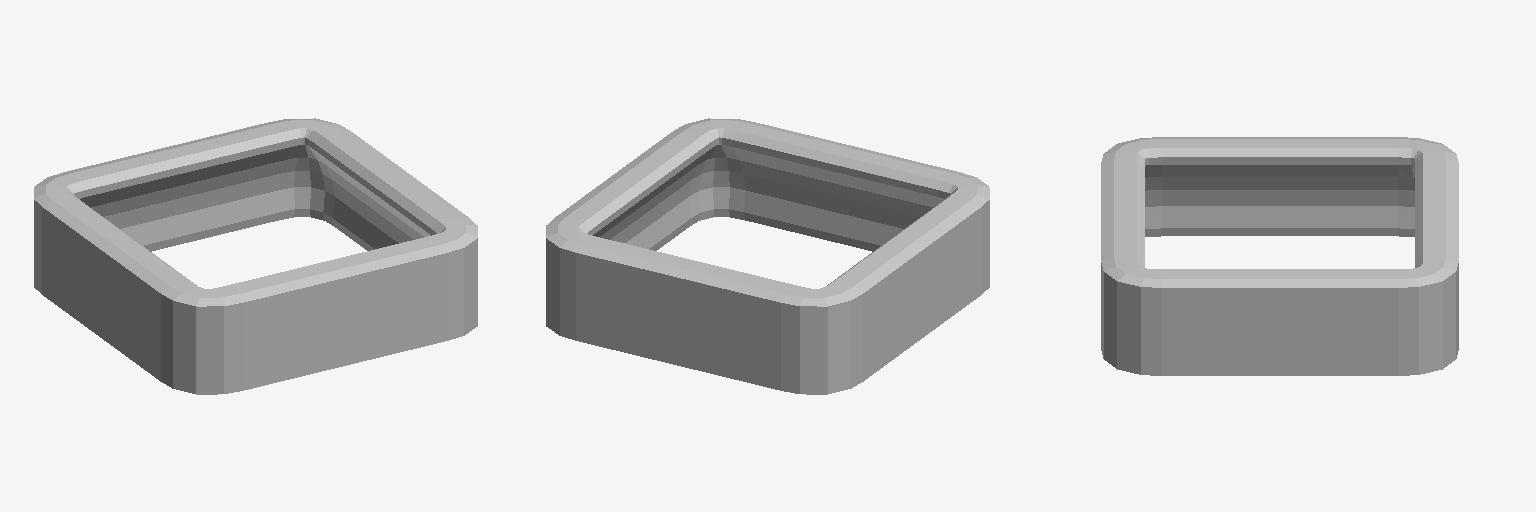
The model's file is InwardCurvedWall_Upper_4edges.obj.
3 renders of one model, left to right at view 1: azimuth 30°, elevation 25°; view 2: azimuth 150°, elevation 25°; view 3: azimuth 270°, elevation 25°, orthographic.
Parts seen in each view (by area): view 1: InwardCurvedWall_Upper_4_edges export_grp; view 2: InwardCurvedWall_Upper_4_edges export_grp; view 3: InwardCurvedWall_Upper_4_edges export_grp.
Part boxes in pixels (left/top/right/bottom): InwardCurvedWall_Upper_4_edges export_grp: left=34, top=118, right=477, bottom=394; InwardCurvedWall_Upper_4_edges export_grp: left=546, top=118, right=989, bottom=394; InwardCurvedWall_Upper_4_edges export_grp: left=1101, top=137, right=1458, bottom=375.
Size of the model in its own units: 12.09 by 3.55 by 12.1.